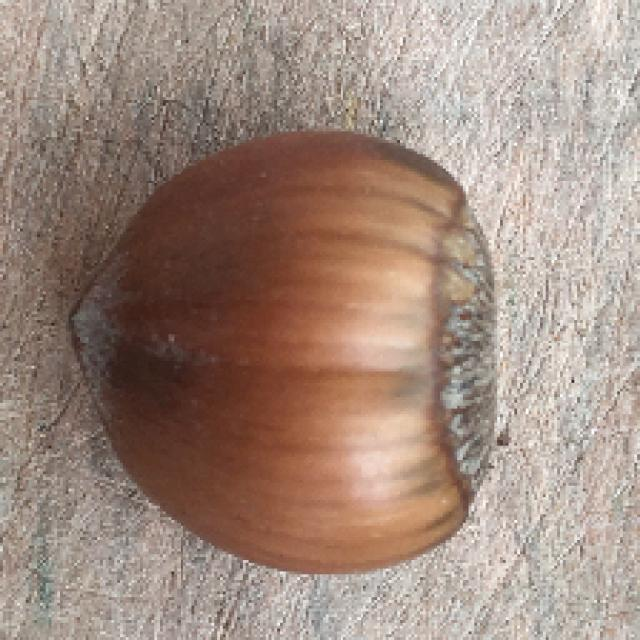damagedHazelnut: (46, 121, 523, 573)
